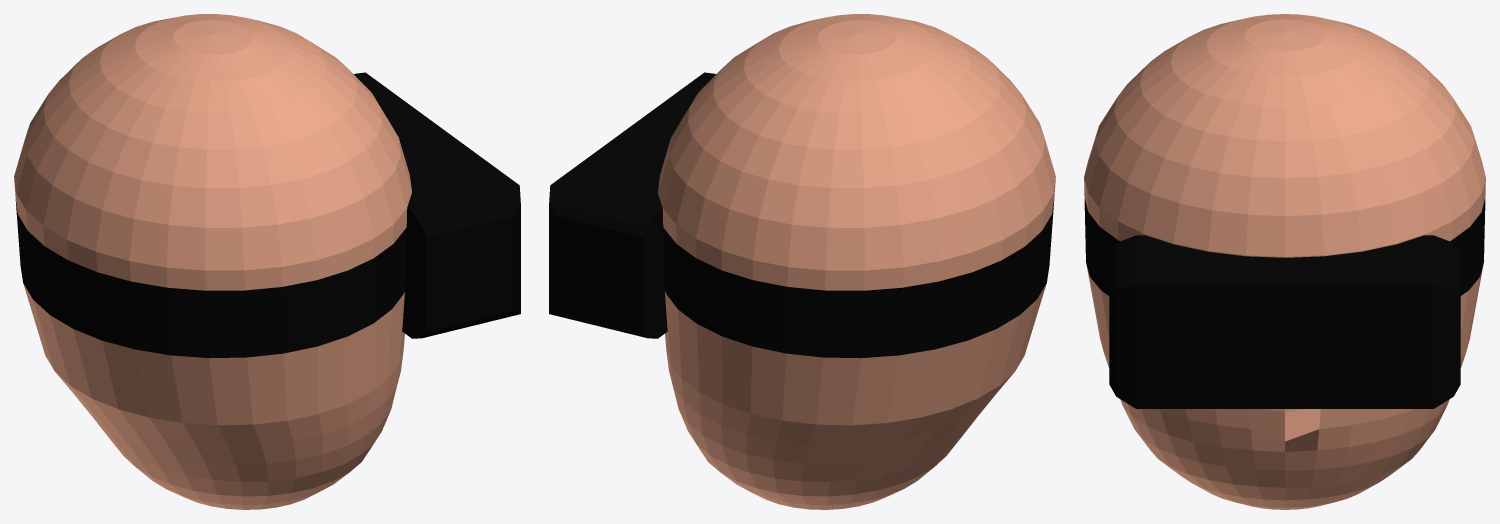
File: Head.fbx
3 renders of one model, left to right at view 1: azimuth 30°, elevation 25°; view 2: azimuth 150°, elevation 25°; view 3: azimuth 270°, elevation 25°, orthographic. The views are drawn at different scales.
Visible parts, largest first — view 1: 05_Head; view 2: 05_Head; view 3: 05_Head.
Part boxes in pixels (<box>): 05_Head: <box>14,14,520,509</box>; 05_Head: <box>549,14,1055,509</box>; 05_Head: <box>1084,14,1485,509</box>.
Size of the model in its own units: 56.01 by 62.38 by 50.54.
